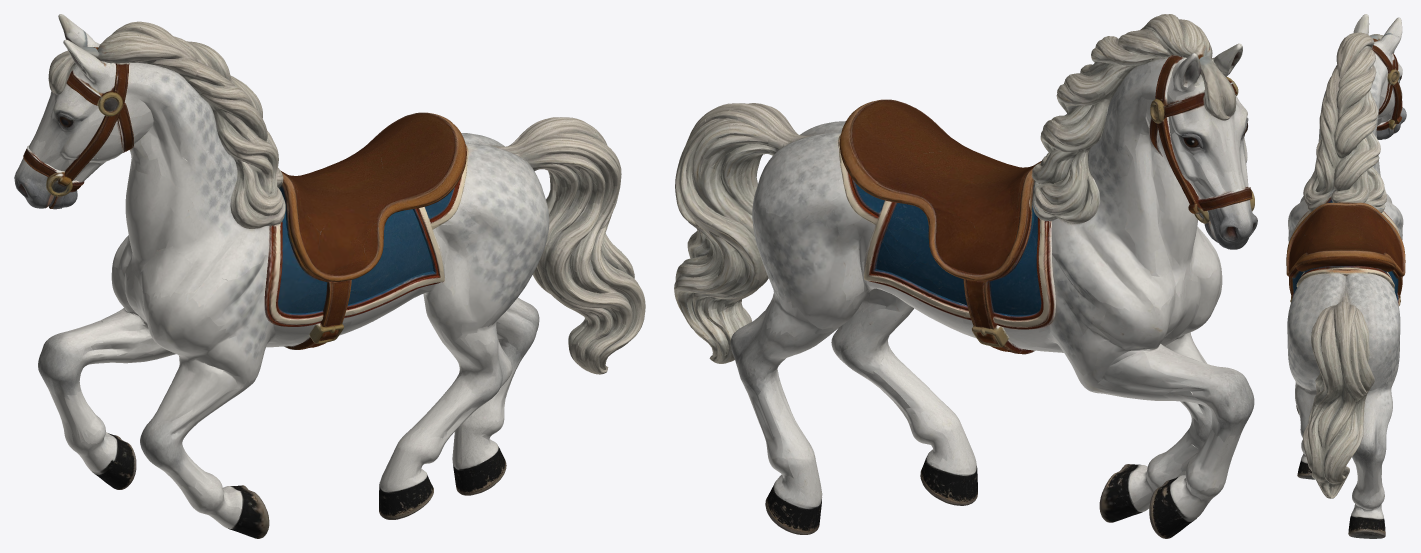
The model's file is horse.glb.
The picture shows the model from 3 angles, left to right: view 1: azimuth 30°, elevation 25°; view 2: azimuth 150°, elevation 25°; view 3: azimuth 270°, elevation 25°; orthographic projection. The views are drawn at different scales.
Bounding box in the file's own units: 1.9 × 1.75 × 0.4879.
Materials: 1 (1 with a texture image).
